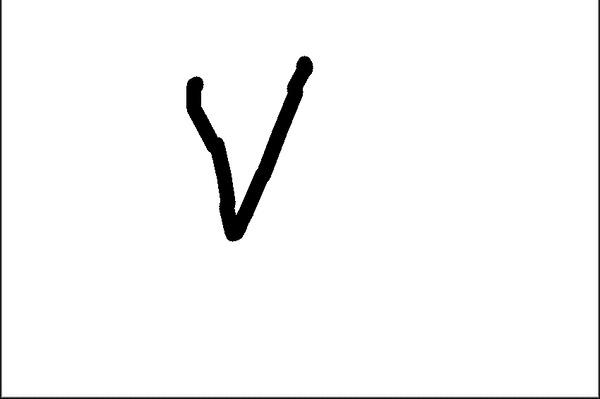V: (173, 51, 316, 243)
